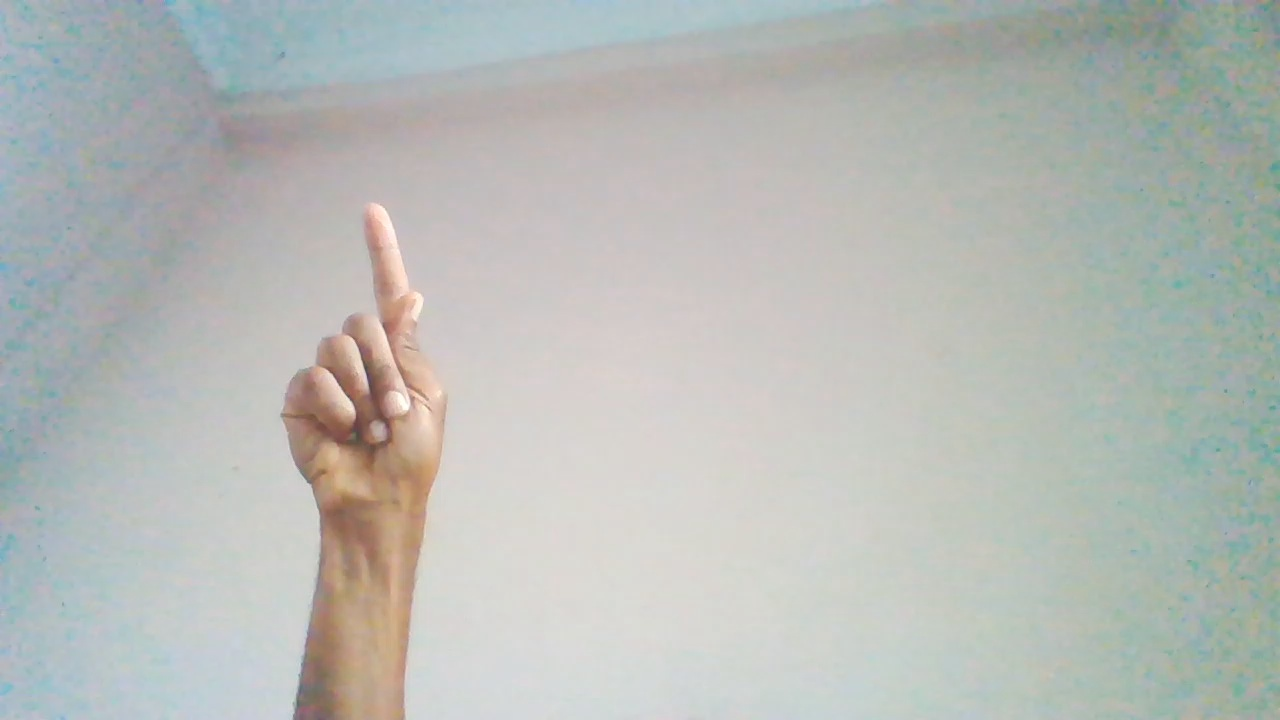ne: (275, 208, 456, 597)
